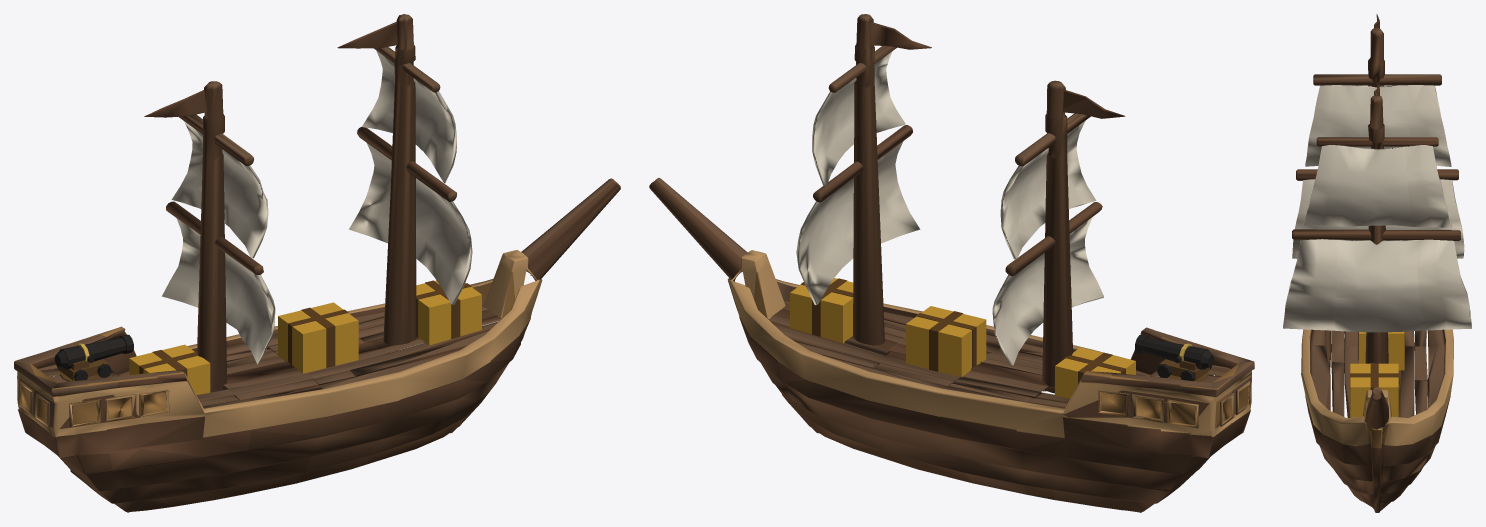
File: merchant.glb
3 views of the same model, side by side, from view 1: azimuth 30°, elevation 25°; view 2: azimuth 150°, elevation 25°; view 3: azimuth 270°, elevation 25° (orthographic). The views are drawn at different scales.
Parts seen in each view (by area): view 1: hull, crate_1, crate_2, crate_0, cannon_barrel, cannon_carriage; view 2: hull, crate_1, crate_2, crate_0, cannon_barrel, cannon_carriage; view 3: hull, crate_2, crate_1.
Boxes of the visible parts, left/top/right/bottom form: hull: left=14, top=14, right=620, bottom=512; crate_1: left=278, top=302, right=358, bottom=373; crate_2: left=416, top=280, right=481, bottom=345; crate_0: left=129, top=344, right=210, bottom=395; cannon_barrel: left=54, top=334, right=133, bottom=369; cannon_carriage: left=56, top=359, right=111, bottom=380; hull: left=649, top=14, right=1254, bottom=512; crate_1: left=906, top=306, right=986, bottom=377; crate_2: left=790, top=278, right=853, bottom=343; crate_0: left=1055, top=347, right=1135, bottom=398; cannon_barrel: left=1135, top=335, right=1213, bottom=369; cannon_carriage: left=1157, top=359, right=1212, bottom=381; hull: left=1283, top=14, right=1471, bottom=512; crate_2: left=1350, top=363, right=1399, bottom=418; crate_1: left=1358, top=331, right=1404, bottom=370.
Bounding box in the file's own units: 1.16 × 0.8105 × 0.3502.
